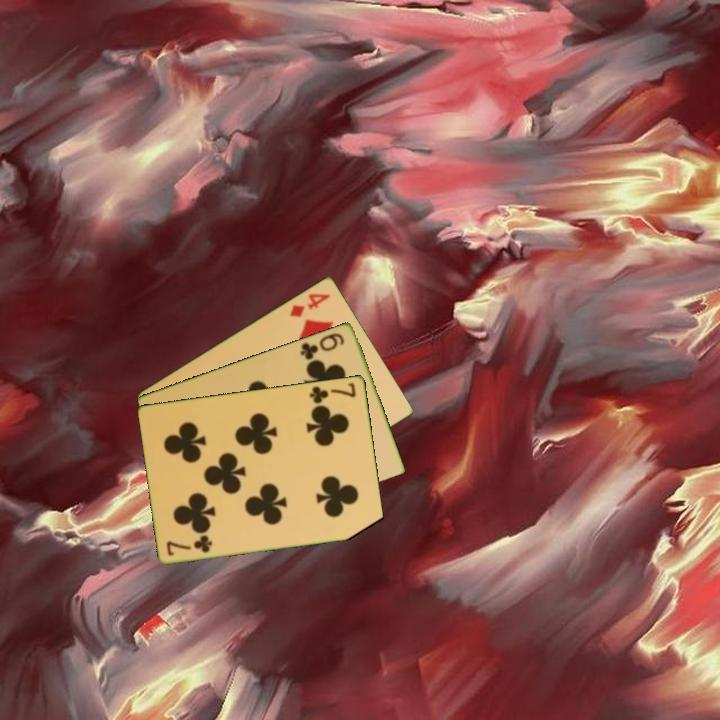4d: (286, 289, 333, 320)
6c: (297, 329, 347, 362)
7c: (306, 379, 359, 406), (163, 532, 215, 558)
